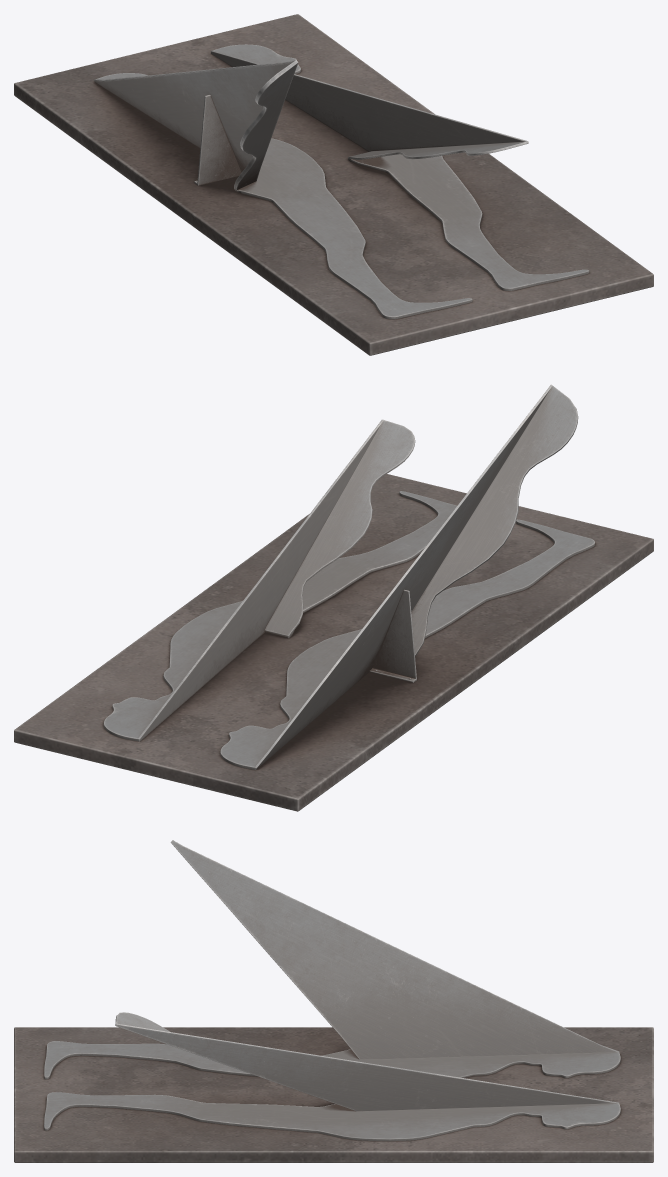
Rendered from ProfileCanto_LL8.glb.
3 renders of one model, top to bottom at view 1: azimuth 30°, elevation 25°; view 2: azimuth 150°, elevation 25°; view 3: azimuth 270°, elevation 25°, orthographic. The views are drawn at different scales.
Visible parts, largest first — view 1: ProfileCanto_LL8; view 2: ProfileCanto_LL8; view 3: ProfileCanto_LL8.
Boxes of the visible parts, bbox=[...] form: ProfileCanto_LL8: bbox=[14, 14, 653, 355]; ProfileCanto_LL8: bbox=[14, 384, 653, 811]; ProfileCanto_LL8: bbox=[14, 840, 653, 1162].
Size of the model in its own units: 1.94 by 1.4 by 3.96.
1 material, 1 textured.
